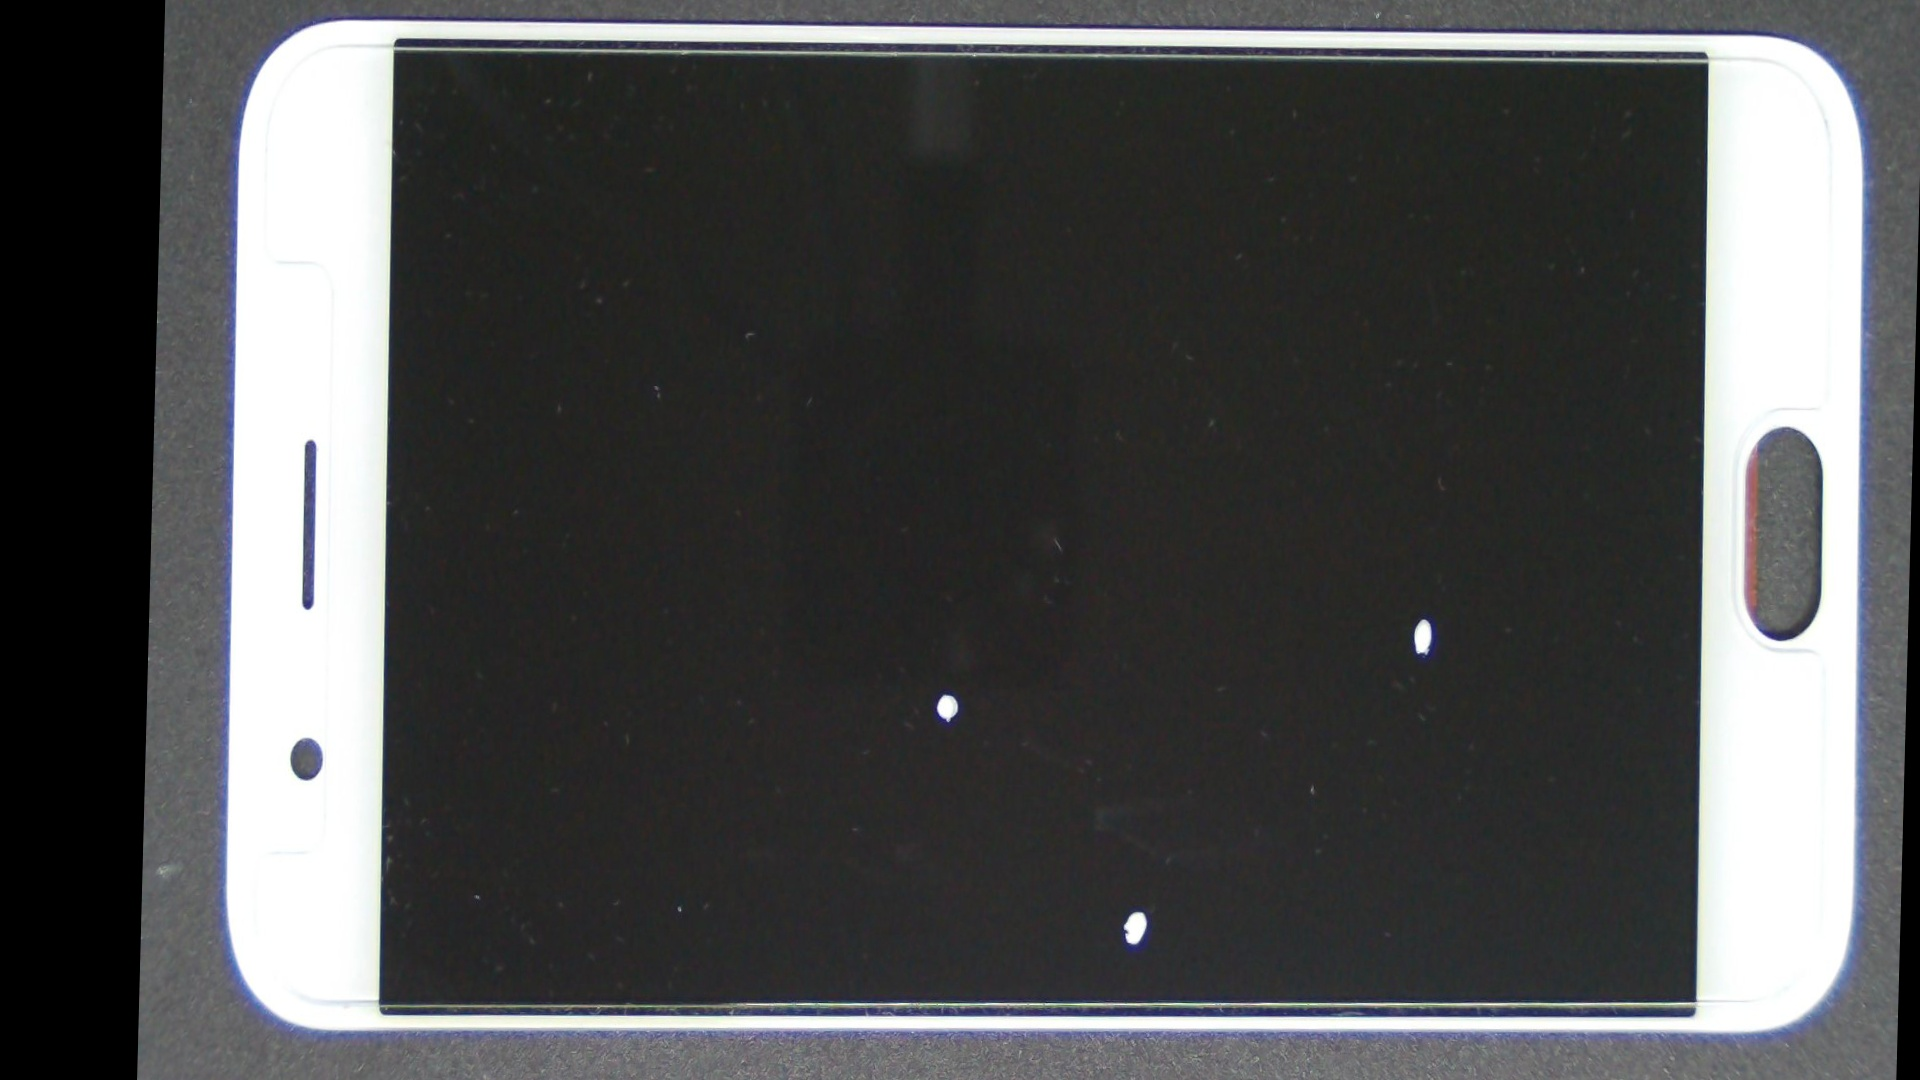oil: (778, 240, 1917, 989), (632, 386, 1644, 1080), (535, 277, 1348, 1080)
